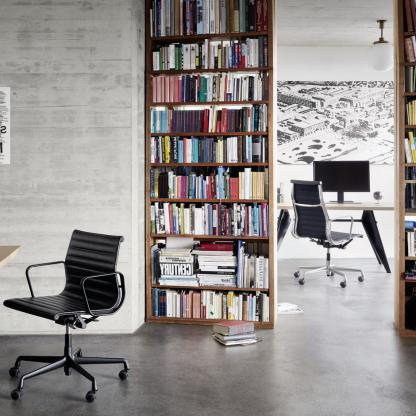chair: (4, 228, 128, 397), (282, 169, 371, 293)
light: (358, 7, 400, 89)
table: (273, 200, 397, 279)
